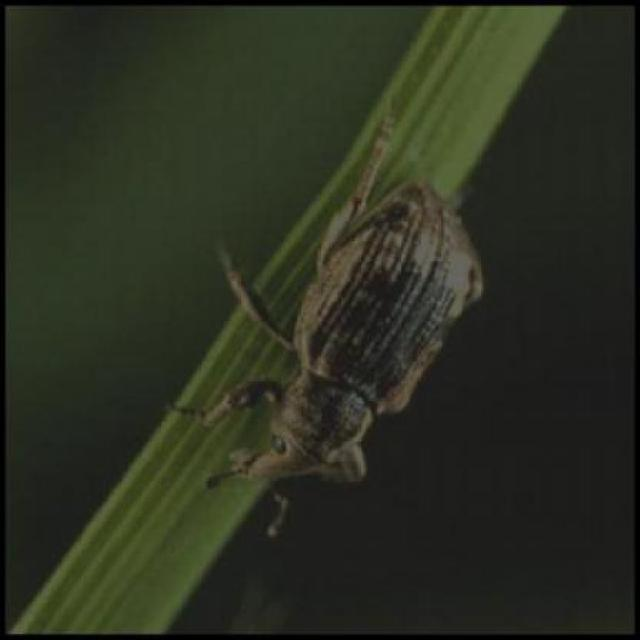rice-bug: (209, 134, 489, 511)
